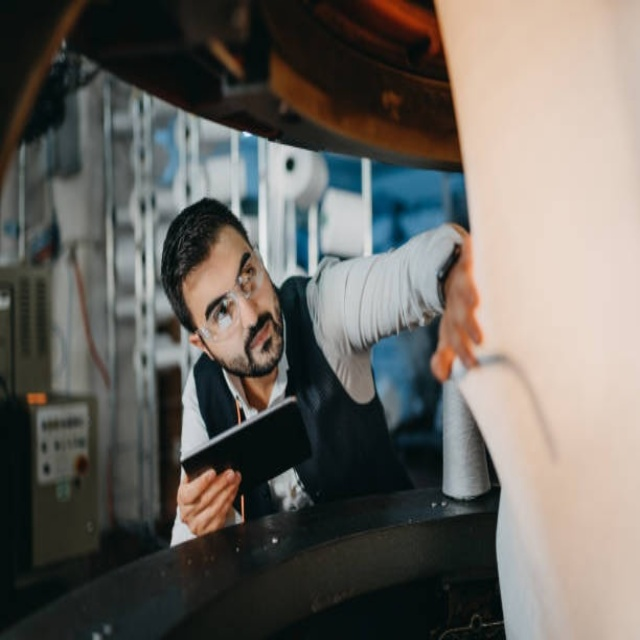Gafas: (198, 250, 266, 343)
Sin_guantes: (425, 225, 485, 382), (177, 463, 241, 537)
Sin_mascara: (241, 309, 281, 372)
